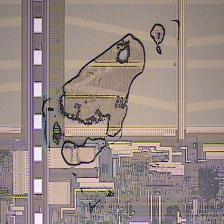COATING BAD: (39, 22, 169, 216)
